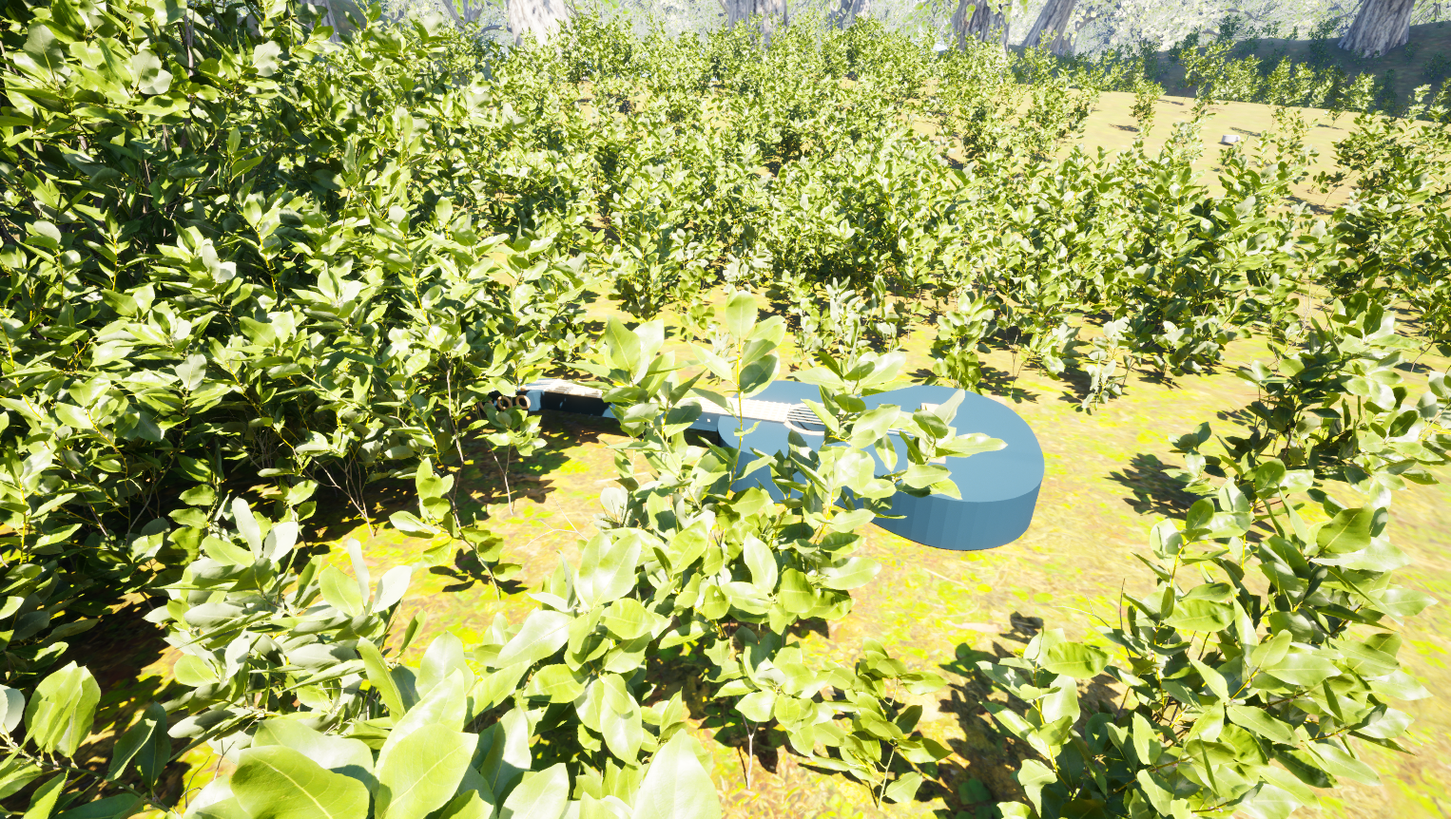Guitar: (399, 342, 1070, 566)
